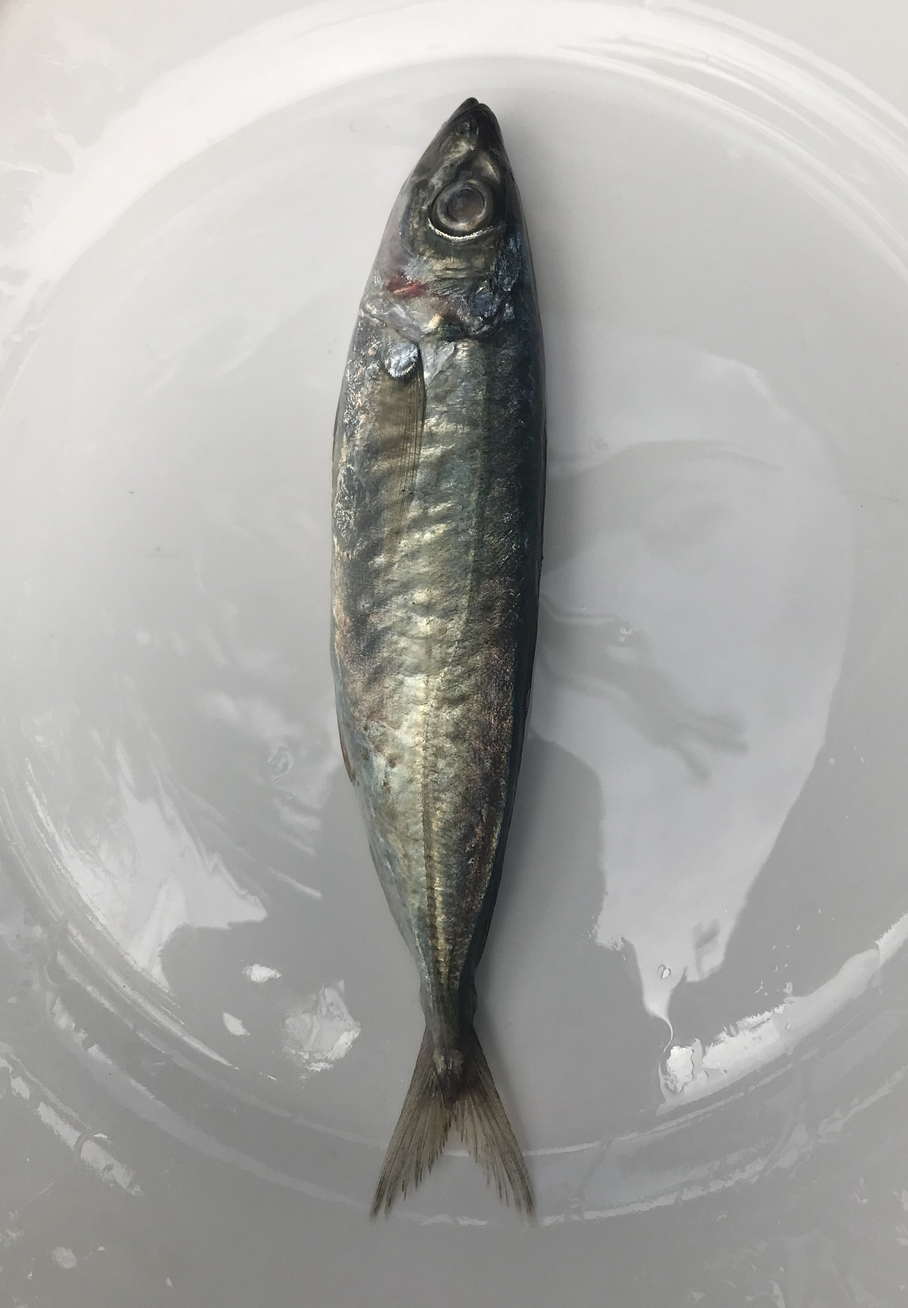galunggong_not_dried: (0, 97, 908, 1308)
